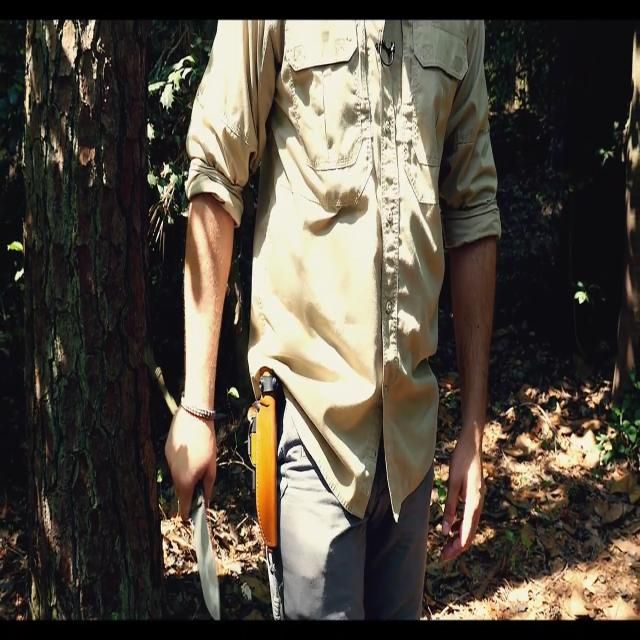knife: (190, 488, 226, 620)
